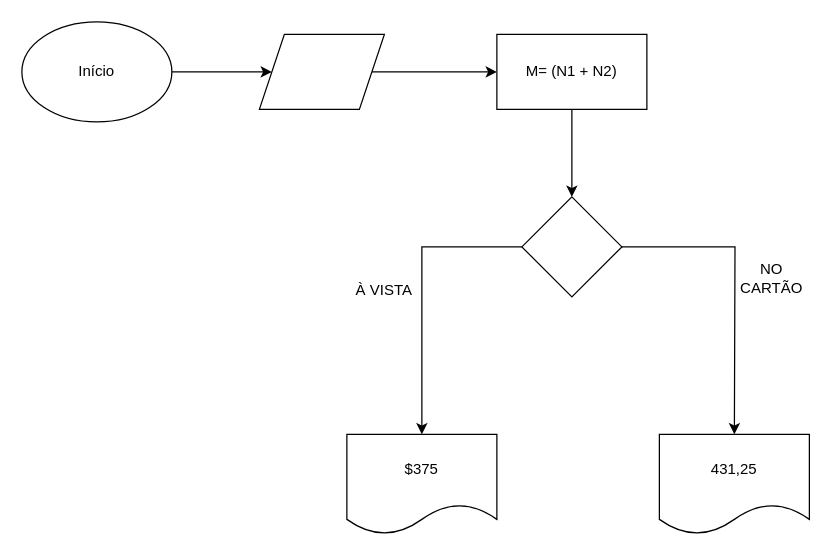
The diagram is 831 pixels wide and 556 high, and some of its shapes have lost their labels. The shapes that lost their labels are listed below. From the top down, each one's box as (x1, y1, x2, y2) in pixels, then its label:
(258, 33, 384, 109): M=375
(521, 196, 622, 297): M= +15%
